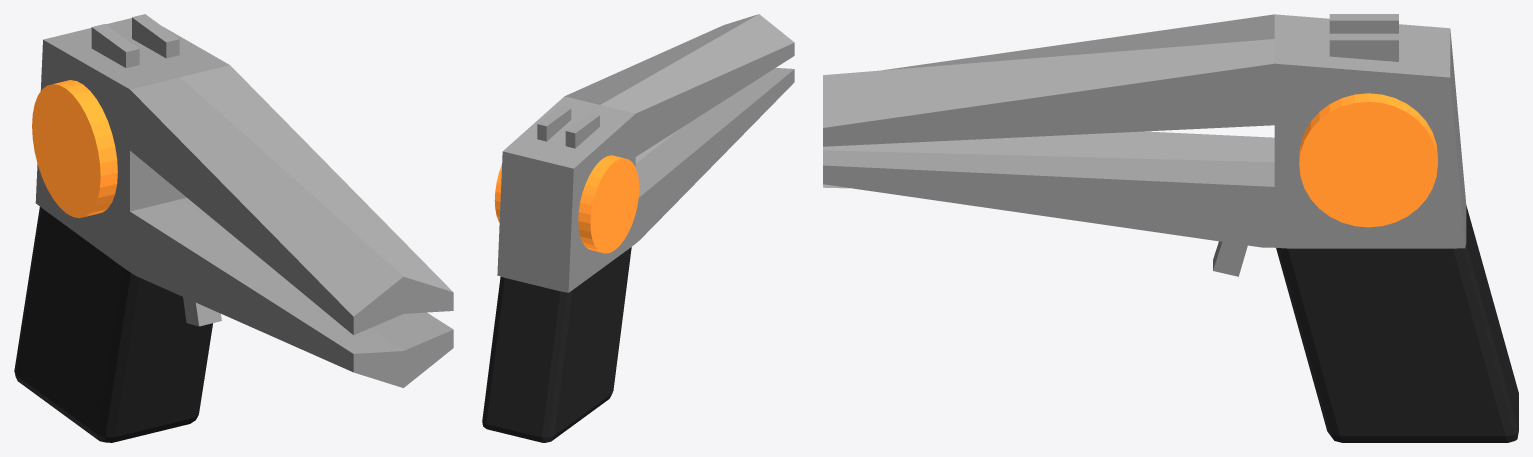
Rendered from pistol.fbx.
The picture shows the model from 3 angles, left to right: view 1: azimuth 30°, elevation 25°; view 2: azimuth 150°, elevation 25°; view 3: azimuth 270°, elevation 25°; orthographic projection. The views are drawn at different scales.
Visible parts, largest first — view 1: Gun, Trigger; view 2: Gun; view 3: Gun, Trigger.
Part boxes in pixels (box(x1,y1,x2,y2)): Gun: box(14, 14, 453, 442); Trigger: box(183, 297, 221, 326); Gun: box(482, 14, 794, 442); Gun: box(823, 14, 1518, 442); Trigger: box(1213, 241, 1247, 276).
Bounding box in the file's own units: 32.23 × 89.82 × 143.
